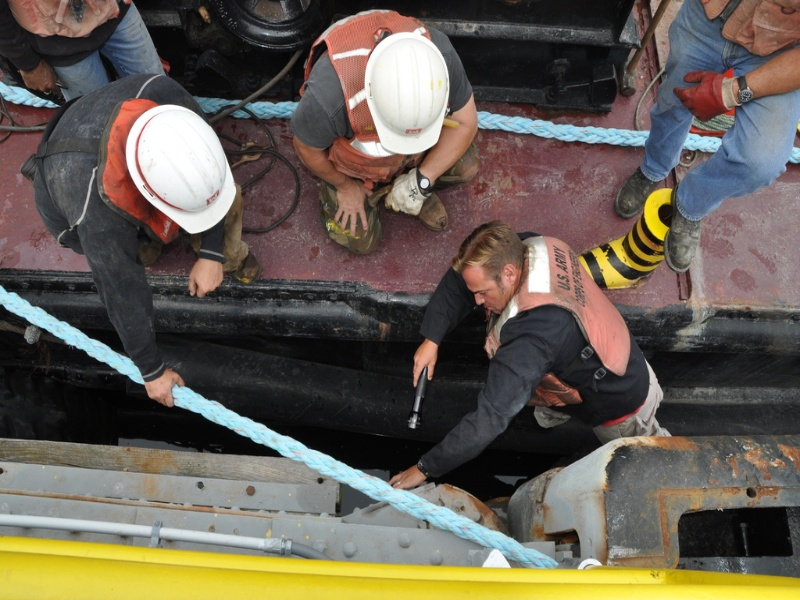helmet: (123, 102, 239, 237), (368, 32, 454, 159)
jacket: (518, 238, 633, 374), (318, 10, 381, 180)
